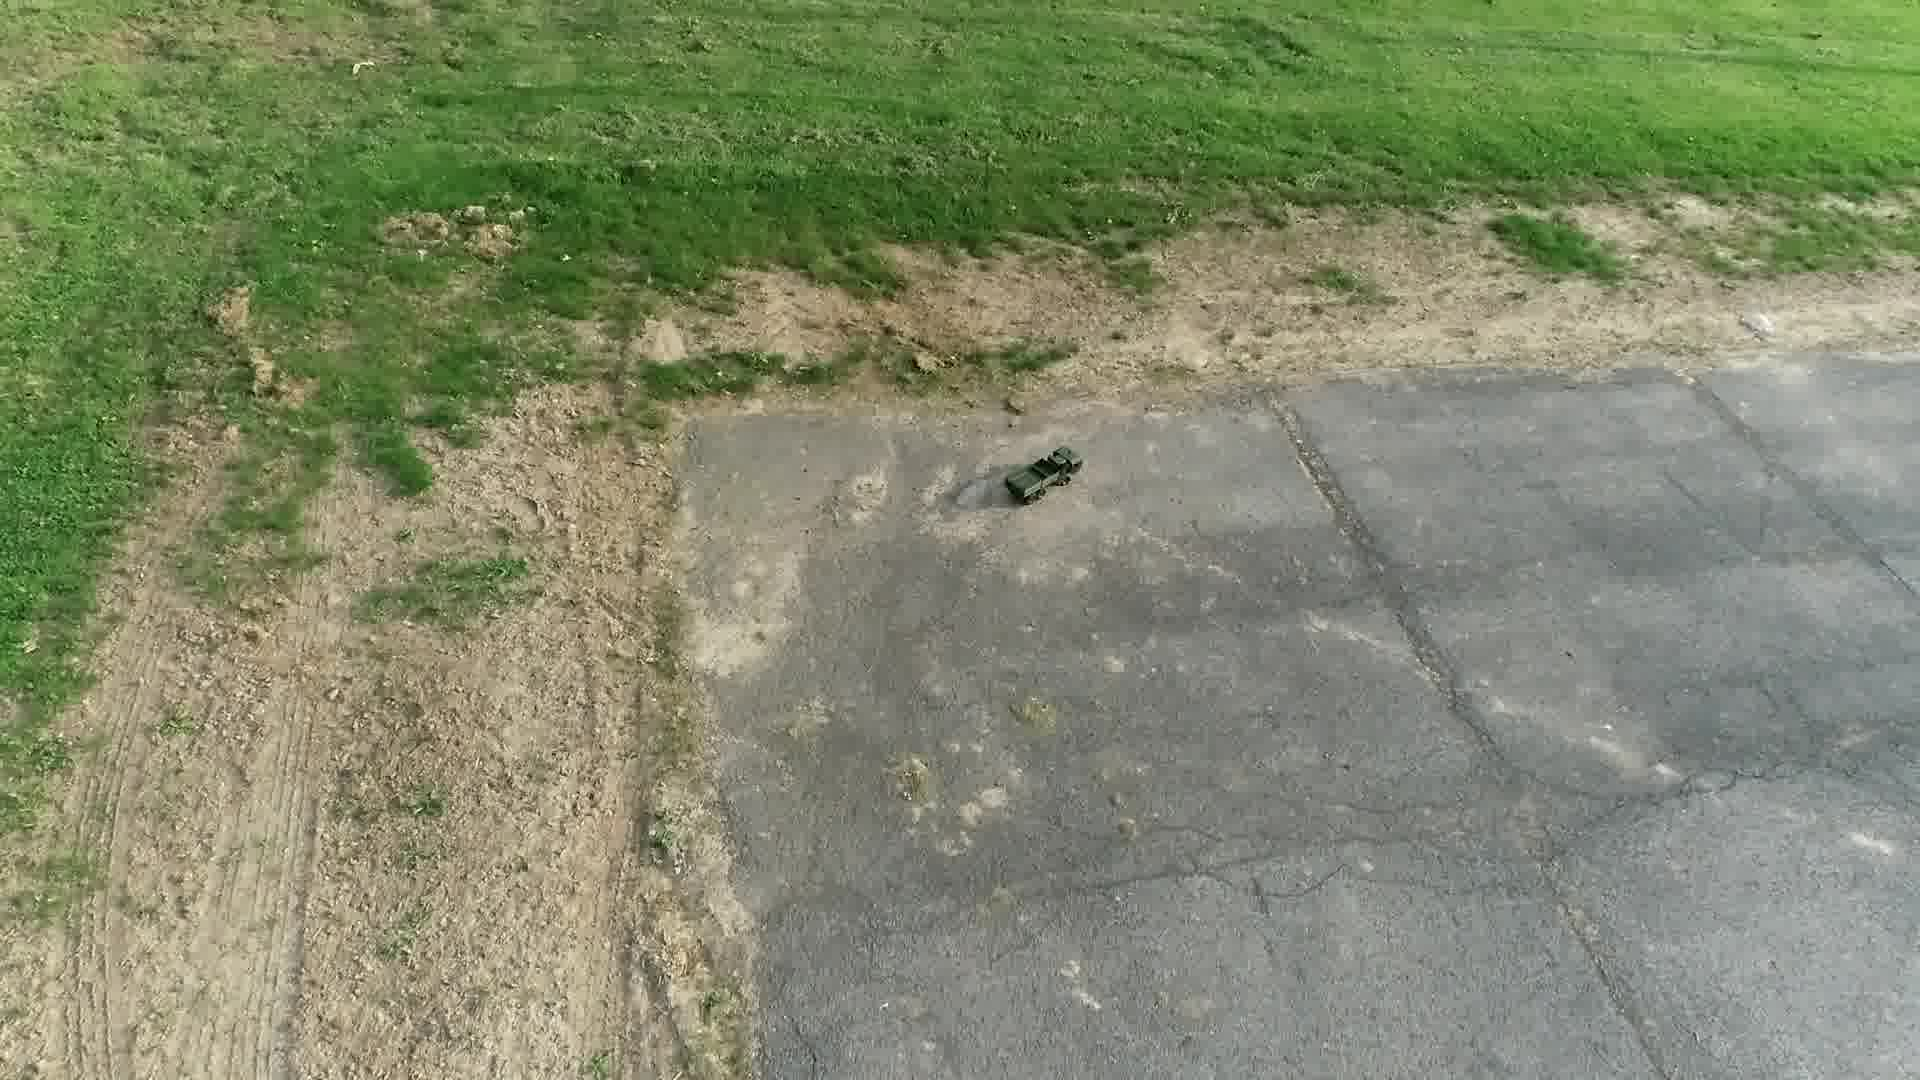transporter9: (998, 439, 1091, 509)
